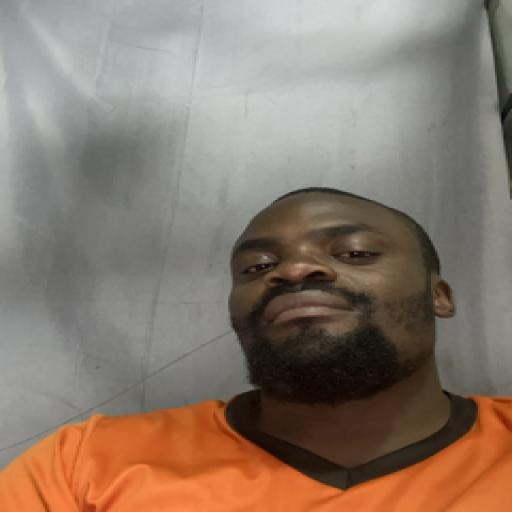JEANLUC: (227, 177, 460, 401)
